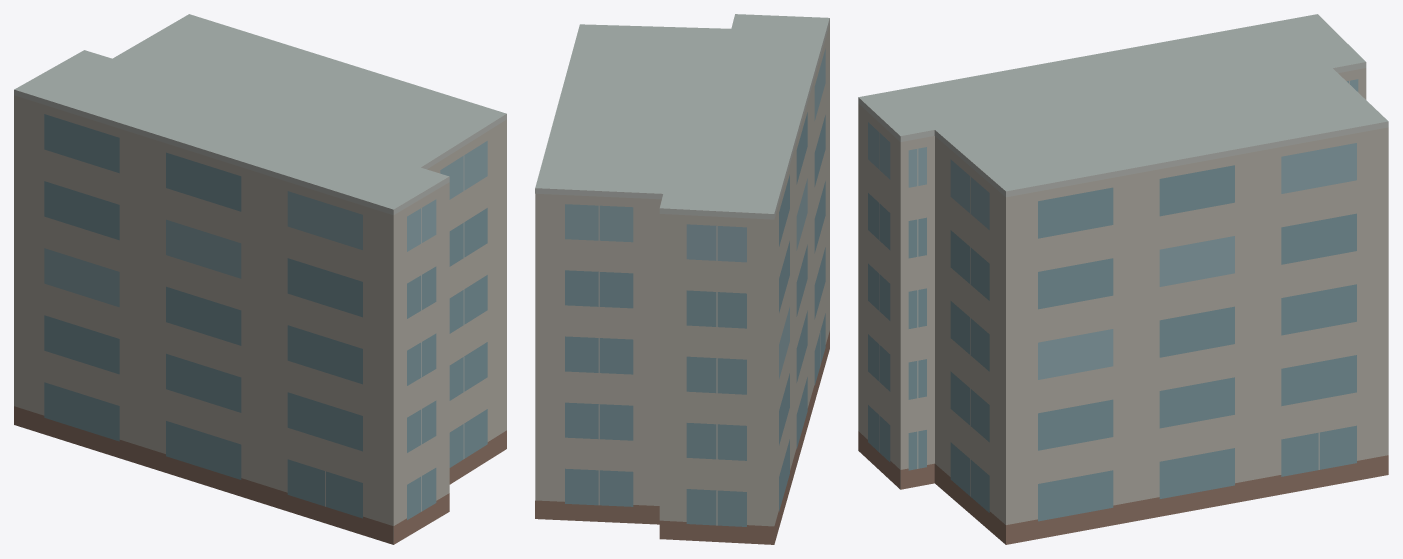
The model's file is survey-upis-32793850.glb.
3 views of the same model, side by side, from view 1: azimuth 30°, elevation 25°; view 2: azimuth 150°, elevation 25°; view 3: azimuth 270°, elevation 25° (orthographic). The views are drawn at different scales.
Parts seen in each view (by area): view 1: survey-upis-32793850.tmp; view 2: survey-upis-32793850.tmp; view 3: survey-upis-32793850.tmp.
Part boxes in pixels (x1=…): survey-upis-32793850.tmp: x1=14, y1=14, x2=506, y2=544; survey-upis-32793850.tmp: x1=535, y1=14, x2=829, y2=544; survey-upis-32793850.tmp: x1=858, y1=14, x2=1388, y2=544.
Size of the model in its own units: 15.51 by 14.4 by 19.59.
